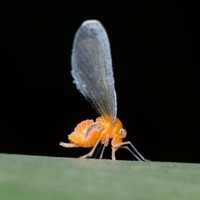insect: (60, 20, 147, 160)
